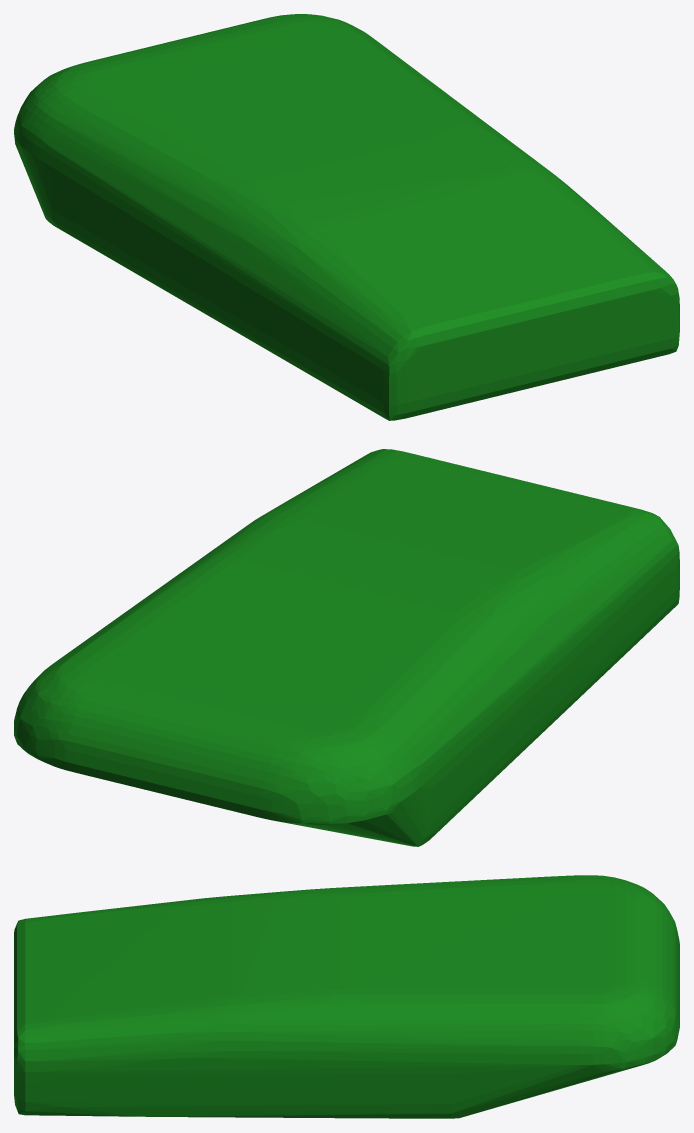
Rendered from right_knee_link_part_8.obj.
3 renders of one model, top to bottom at view 1: azimuth 30°, elevation 25°; view 2: azimuth 150°, elevation 25°; view 3: azimuth 270°, elevation 25°, orthographic. The views are drawn at different scales.
Size of the model in its own units: 0.0675 by 0.0203 by 0.1175.
